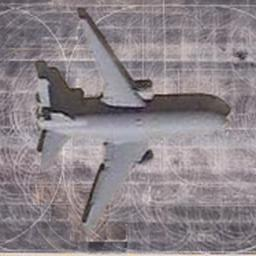Airplane: (31, 5, 232, 232)
